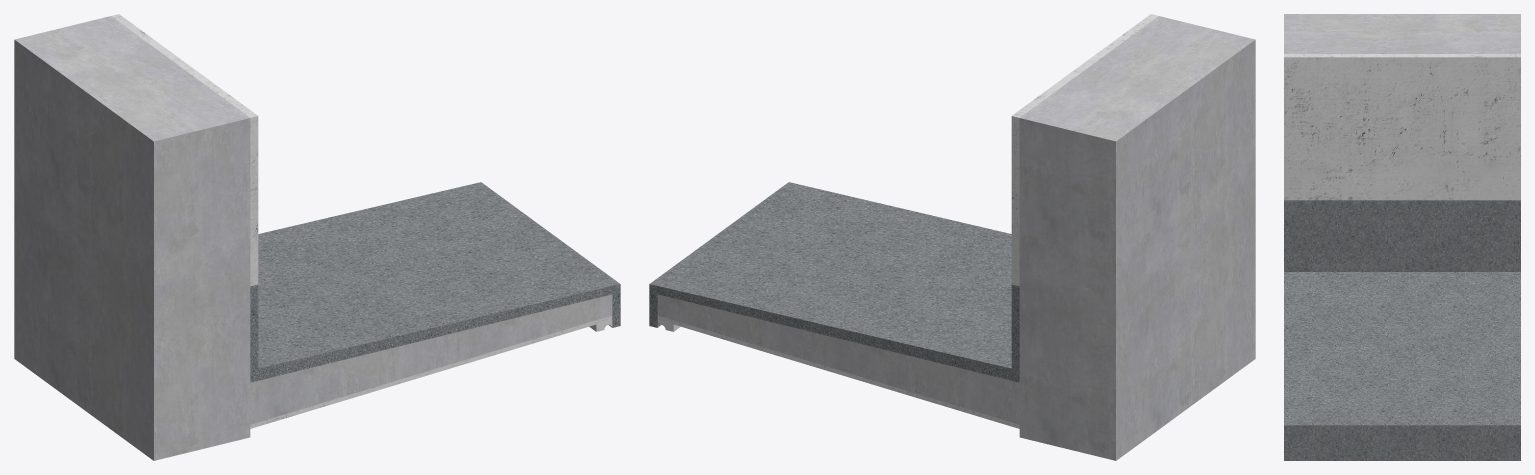
File: cantilever-canopy-slab-01.glb
The picture shows the model from 3 angles, left to right: view 1: azimuth 30°, elevation 25°; view 2: azimuth 150°, elevation 25°; view 3: azimuth 270°, elevation 25°; orthographic projection. The views are drawn at different scales.
Parts seen in each view (by area): view 1: 墙体, 过梁与悬挑板, 防水砂浆, 墙面抹灰, 板底抹灰与檐口滴水槽; view 2: 墙体, 过梁与悬挑板, 防水砂浆, 墙面抹灰, 板底抹灰与檐口滴水槽; view 3: 防水砂浆, 墙面抹灰, 墙体.
Boxes of the visible parts, bbox=[...] form: 墙体: bbox=[14, 16, 250, 309]; 过梁与悬挑板: bbox=[14, 208, 612, 460]; 防水砂浆: bbox=[250, 182, 620, 382]; 墙面抹灰: bbox=[111, 14, 258, 286]; 板底抹灰与檐口滴水槽: bbox=[250, 315, 612, 428]; 墙体: bbox=[1019, 16, 1255, 309]; 过梁与悬挑板: bbox=[657, 208, 1255, 460]; 防水砂浆: bbox=[649, 182, 1019, 382]; 墙面抹灰: bbox=[1011, 14, 1158, 286]; 板底抹灰与檐口滴水槽: bbox=[657, 315, 1019, 428]; 防水砂浆: bbox=[1284, 200, 1520, 460]; 墙面抹灰: bbox=[1284, 54, 1520, 200]; 墙体: bbox=[1284, 14, 1520, 53].
Bounding box in the file's own units: 1.16 × 0.7588 × 0.6.
Materials: 5 (5 with a texture image).
